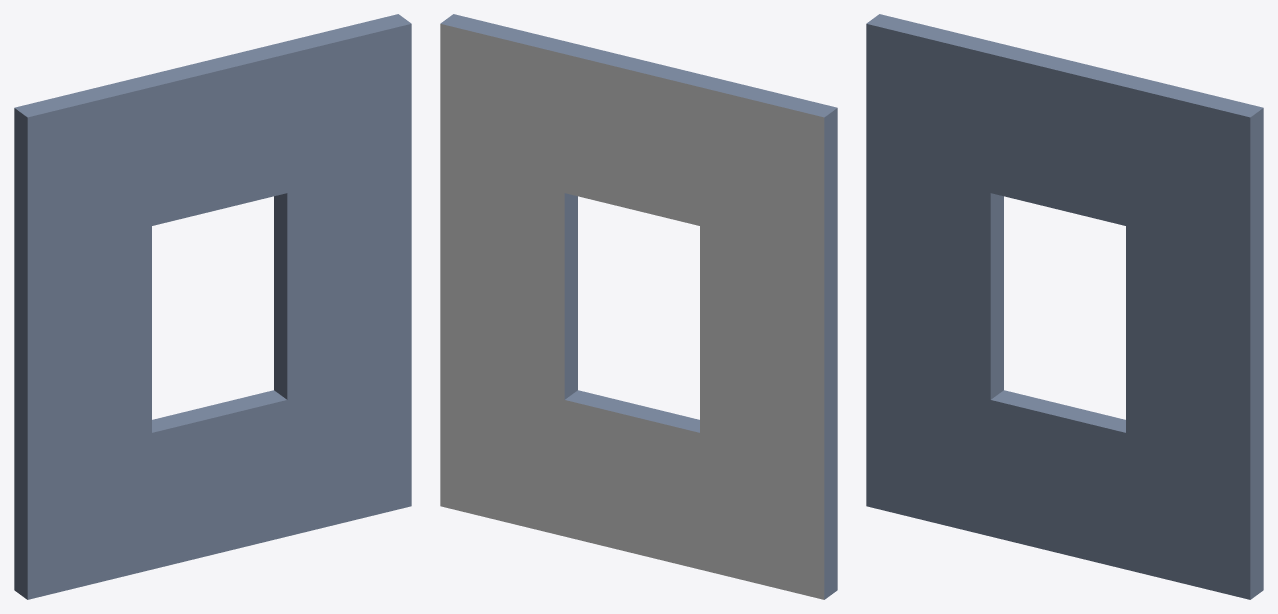
The model's file is Wall1_C3_03.fbx.
3 views of the same model, side by side, from view 1: azimuth 30°, elevation 25°; view 2: azimuth 150°, elevation 25°; view 3: azimuth 330°, elevation 25° (orthographic).
Parts seen in each view (by area): view 1: Wall1_C3_03; view 2: Wall1_C3_03; view 3: Wall1_C3_03.
Boxes of the visible parts, left/top/right/bottom form: Wall1_C3_03: left=14, top=14, right=411, bottom=599; Wall1_C3_03: left=440, top=14, right=837, bottom=599; Wall1_C3_03: left=866, top=14, right=1263, bottom=599.
Size of the model in its own units: 250 by 300 by 15.
